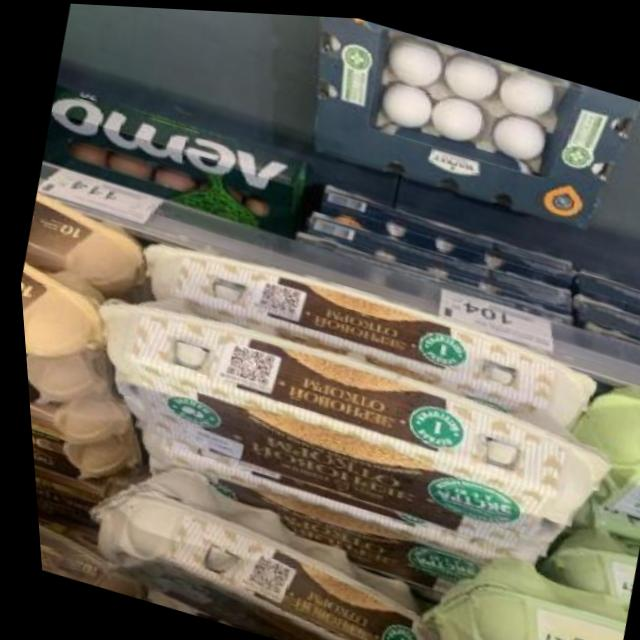Egg: (69, 279, 605, 564), (123, 222, 593, 428)
